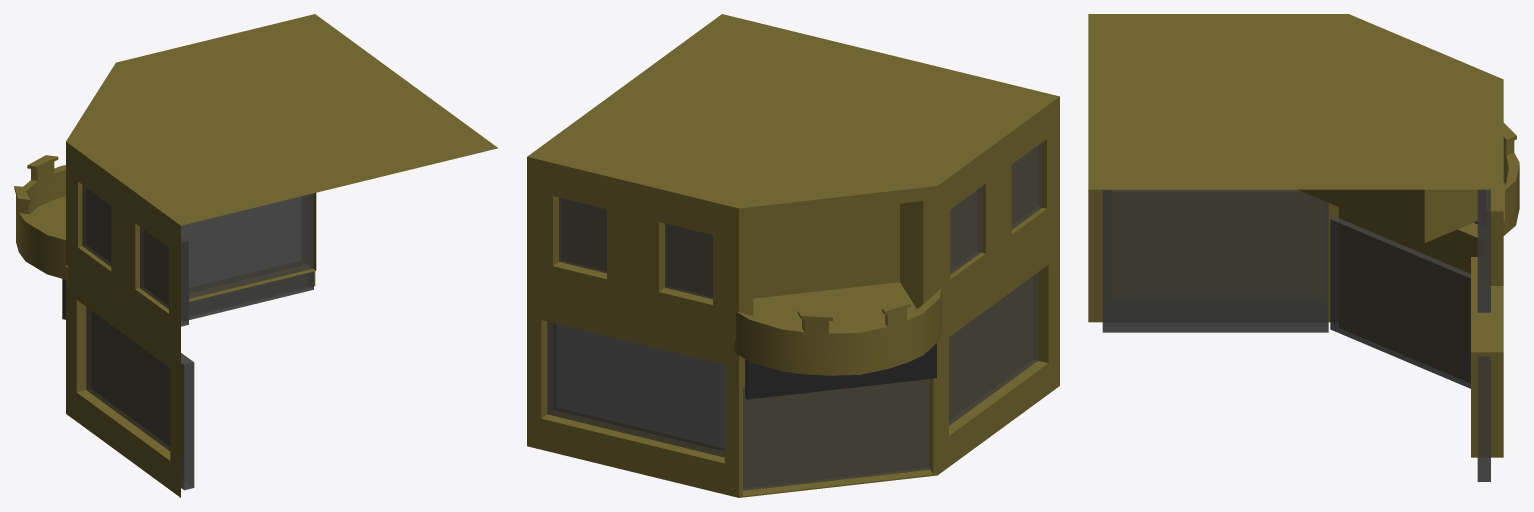
The model's file is edificio 5.fbx.
The picture shows the model from 3 angles, left to right: view 1: azimuth 30°, elevation 25°; view 2: azimuth 150°, elevation 25°; view 3: azimuth 270°, elevation 25°; orthographic projection. The views are drawn at different scales.
Visible parts, largest first — view 1: MaterialBase, Ventanas y Puertas, Balcon; view 2: MaterialBase, Ventanas y Puertas, Balcon, Cartel; view 3: MaterialBase, Ventanas y Puertas, Balcon.
Part boxes in pixels (x1,y1,x2,y2): MaterialBase: (66,14,497,497); Ventanas y Puertas: (82,185,313,490); Balcon: (14,155,68,280); MaterialBase: (527,14,1059,497); Ventanas y Puertas: (547,142,1042,490); Balcon: (734,288,941,375); Cartel: (745,343,936,399); MaterialBase: (1088,14,1503,457); Ventanas y Puertas: (1102,189,1490,481); Balcon: (1466,123,1519,235).
Size of the model in its own units: 313 by 246 by 312.
